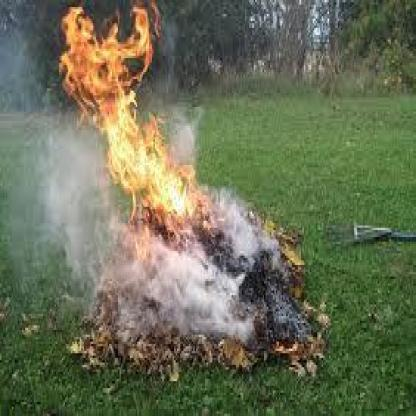fire: (56, 0, 217, 230)
